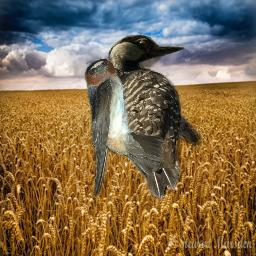Swallow: (84, 58, 163, 200)
Woodpecker: (107, 33, 205, 203)
